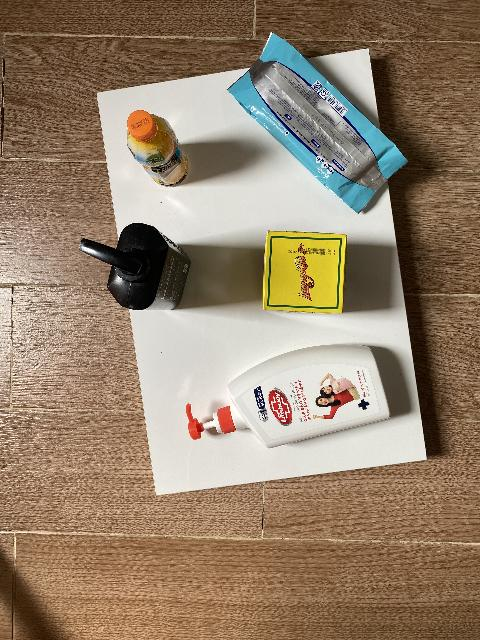Let-green_alcohol_wipes: (227, 32, 409, 214)
X-men: (79, 222, 191, 311)
life-buoy: (186, 344, 391, 449)
luong_kho: (262, 231, 347, 314)
teppy_orange_juice: (127, 110, 189, 187)
